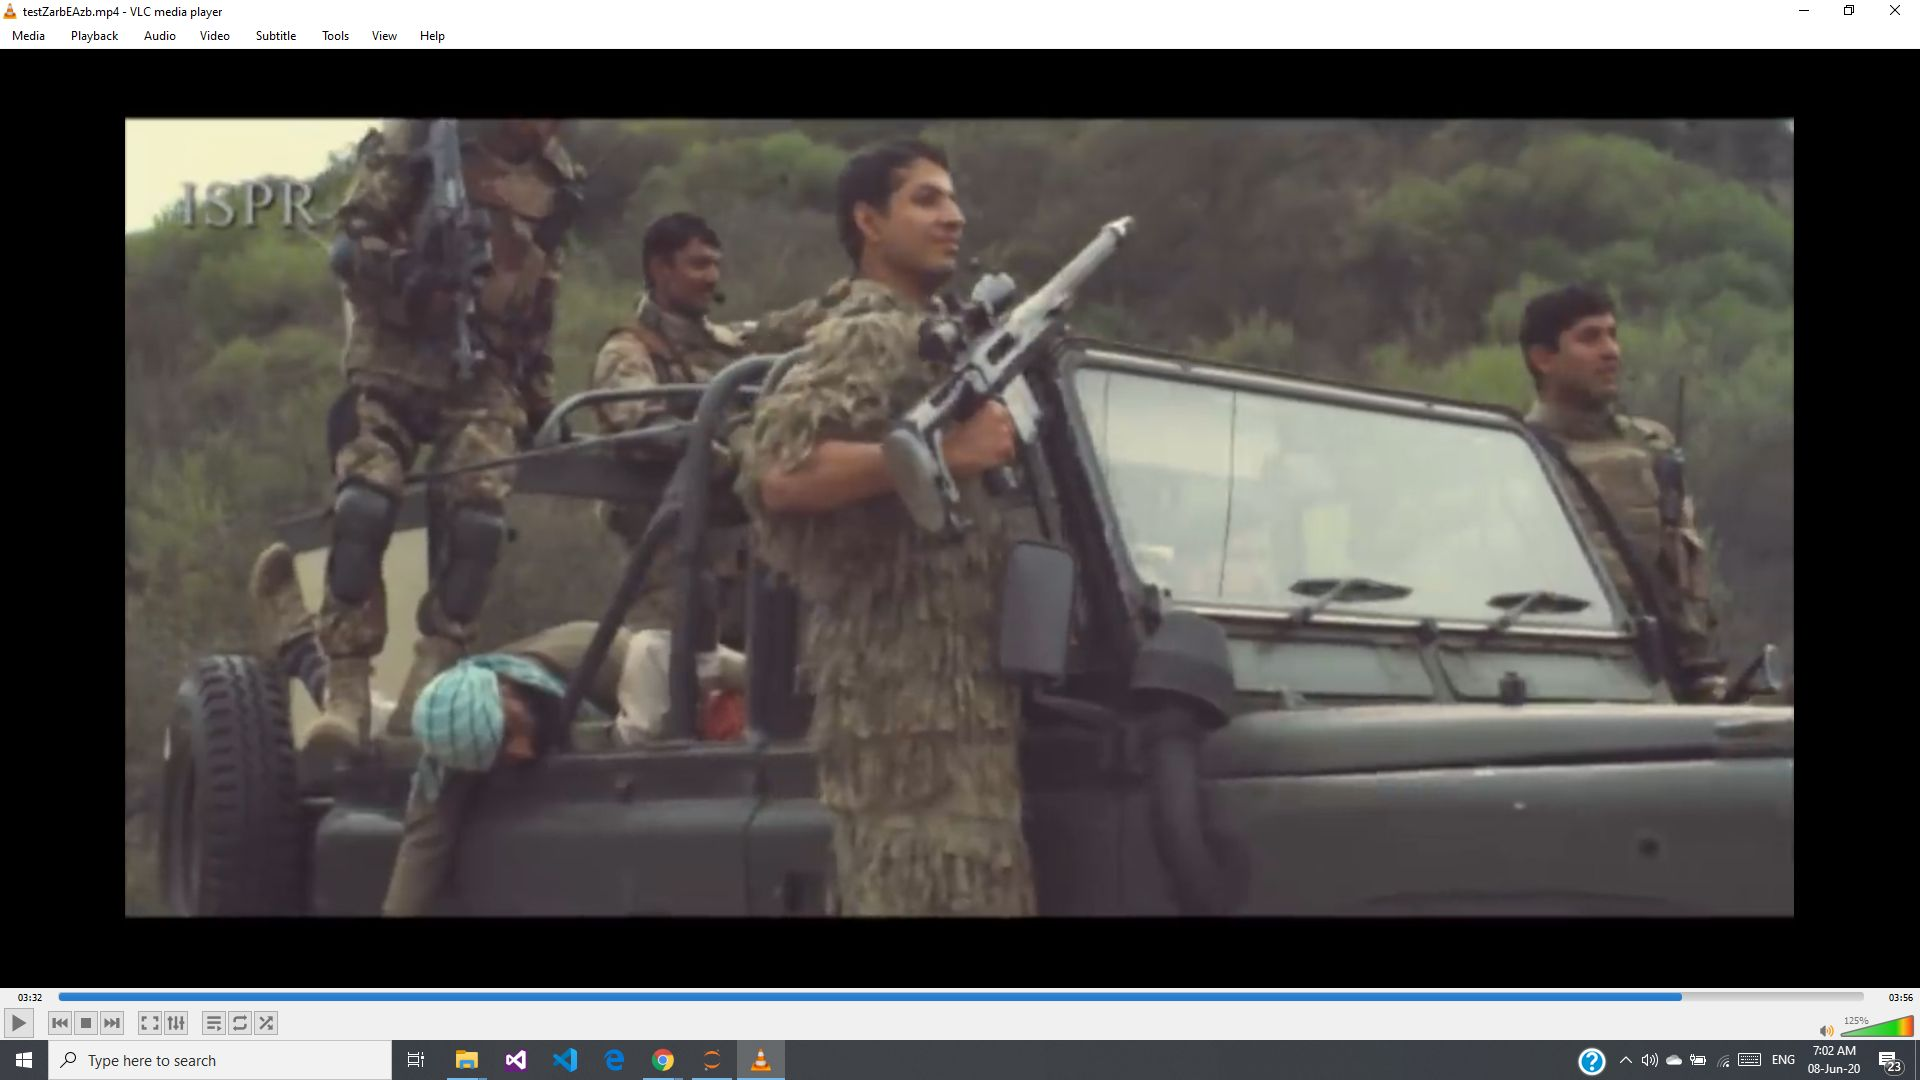gun: (855, 186, 1149, 505), (369, 127, 524, 381), (1640, 367, 1714, 665)
uniform: (719, 237, 1080, 913), (307, 123, 550, 785), (579, 199, 793, 709), (1462, 356, 1749, 733)
